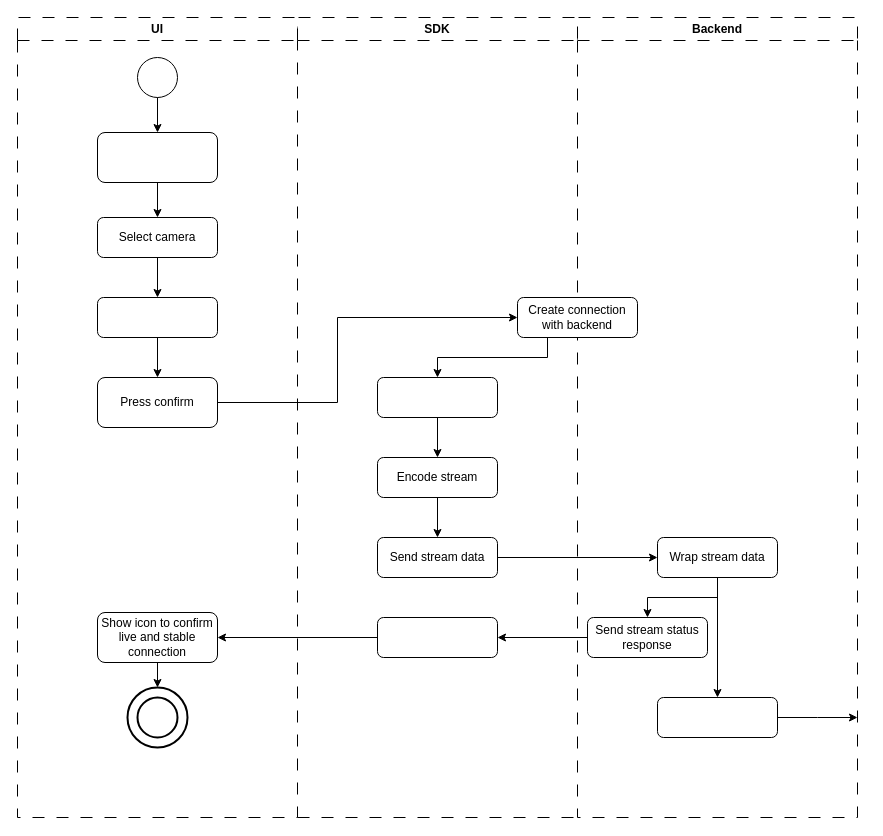
Image size: 883x836. Some labels were removed from this diagram. The centre of each missing label's shape, as x and y in pixels:
"Decode response" belongs at pixel 437 637.
"Grab camera stream" belongs at pixel 437 397.
"Press share screen button in voice channel" belongs at pixel 157 157.
"Select resolution and frame rate" belongs at pixel 157 317.
"Send to other participants" belongs at pixel 717 717.
